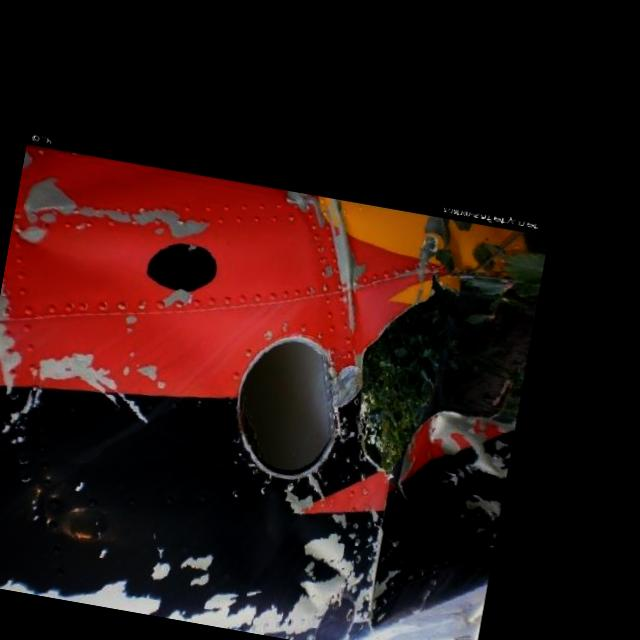dent: (208, 482, 338, 586), (10, 223, 156, 291)
